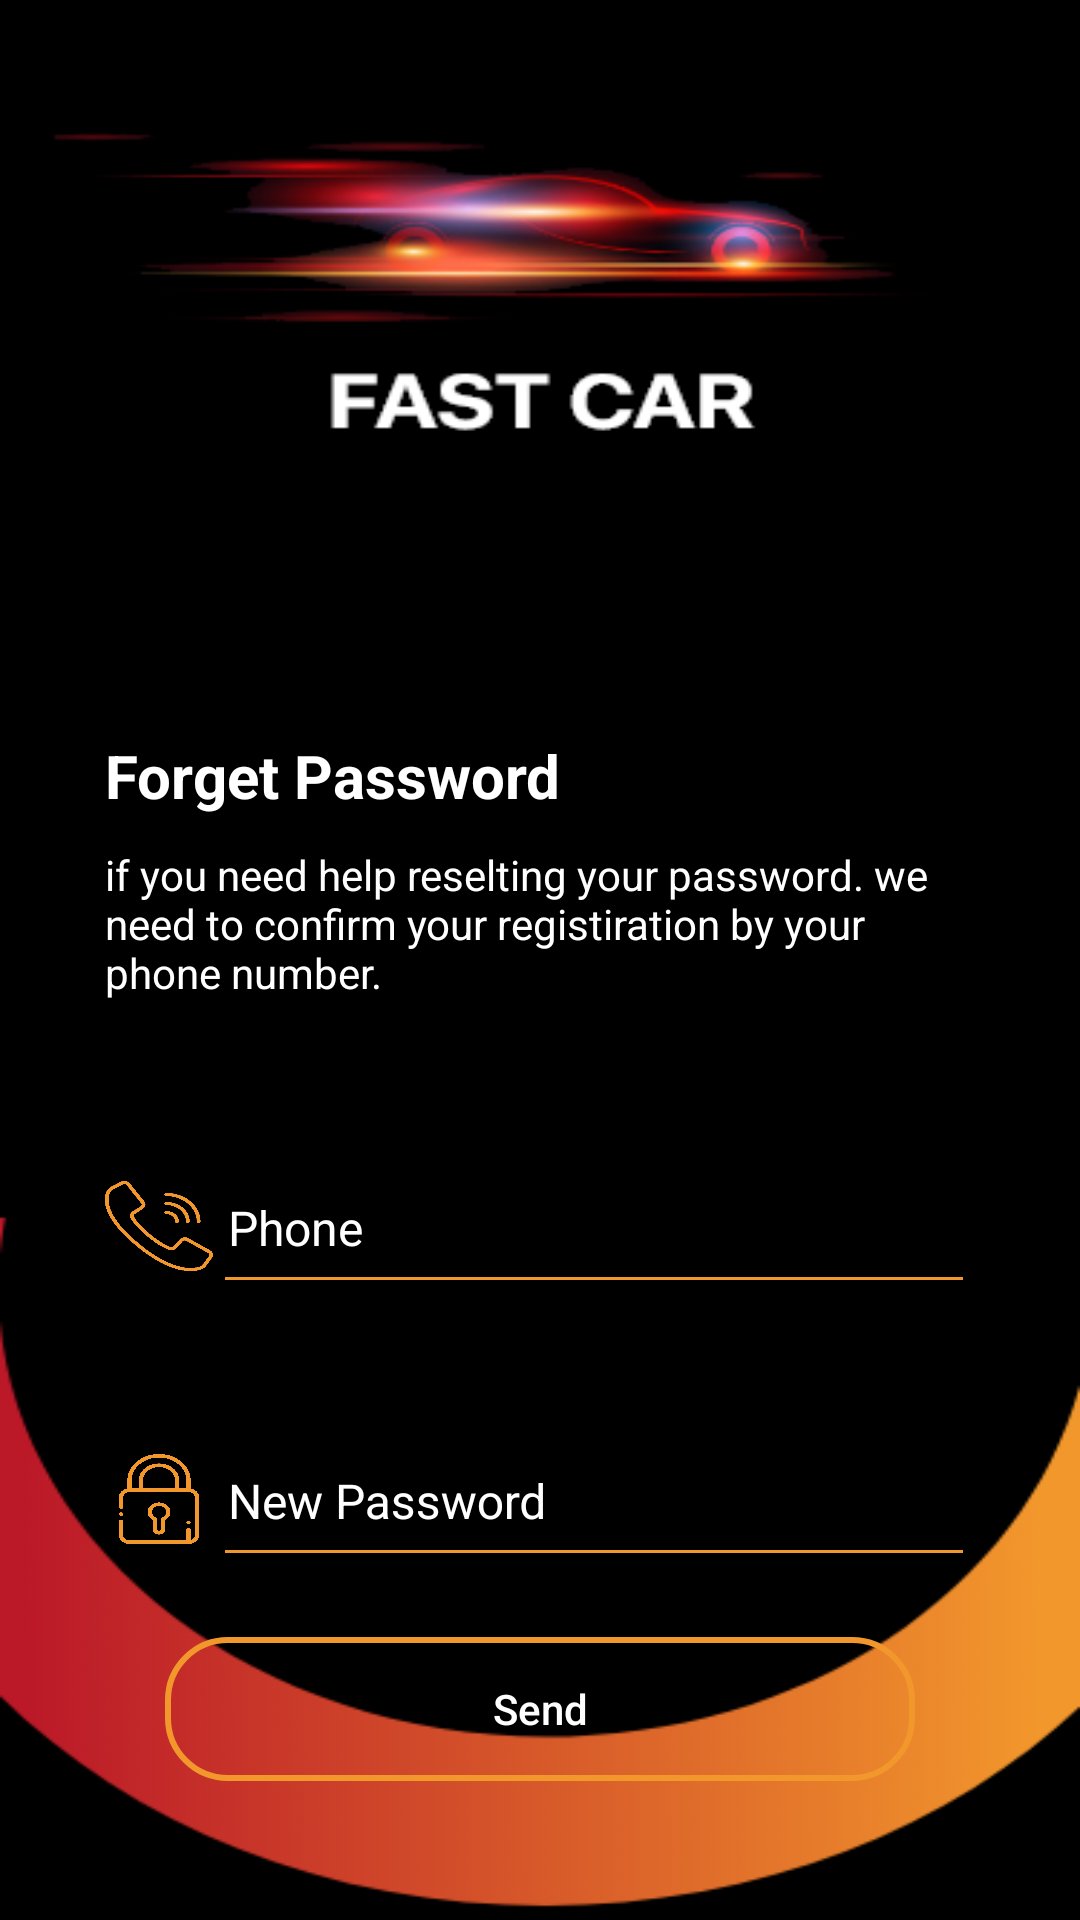

Named icons in this screenshot (1080px×1920px) and their bounding boxes, (x1, y1, x2, y2):
lock: (119, 1454, 199, 1544)
